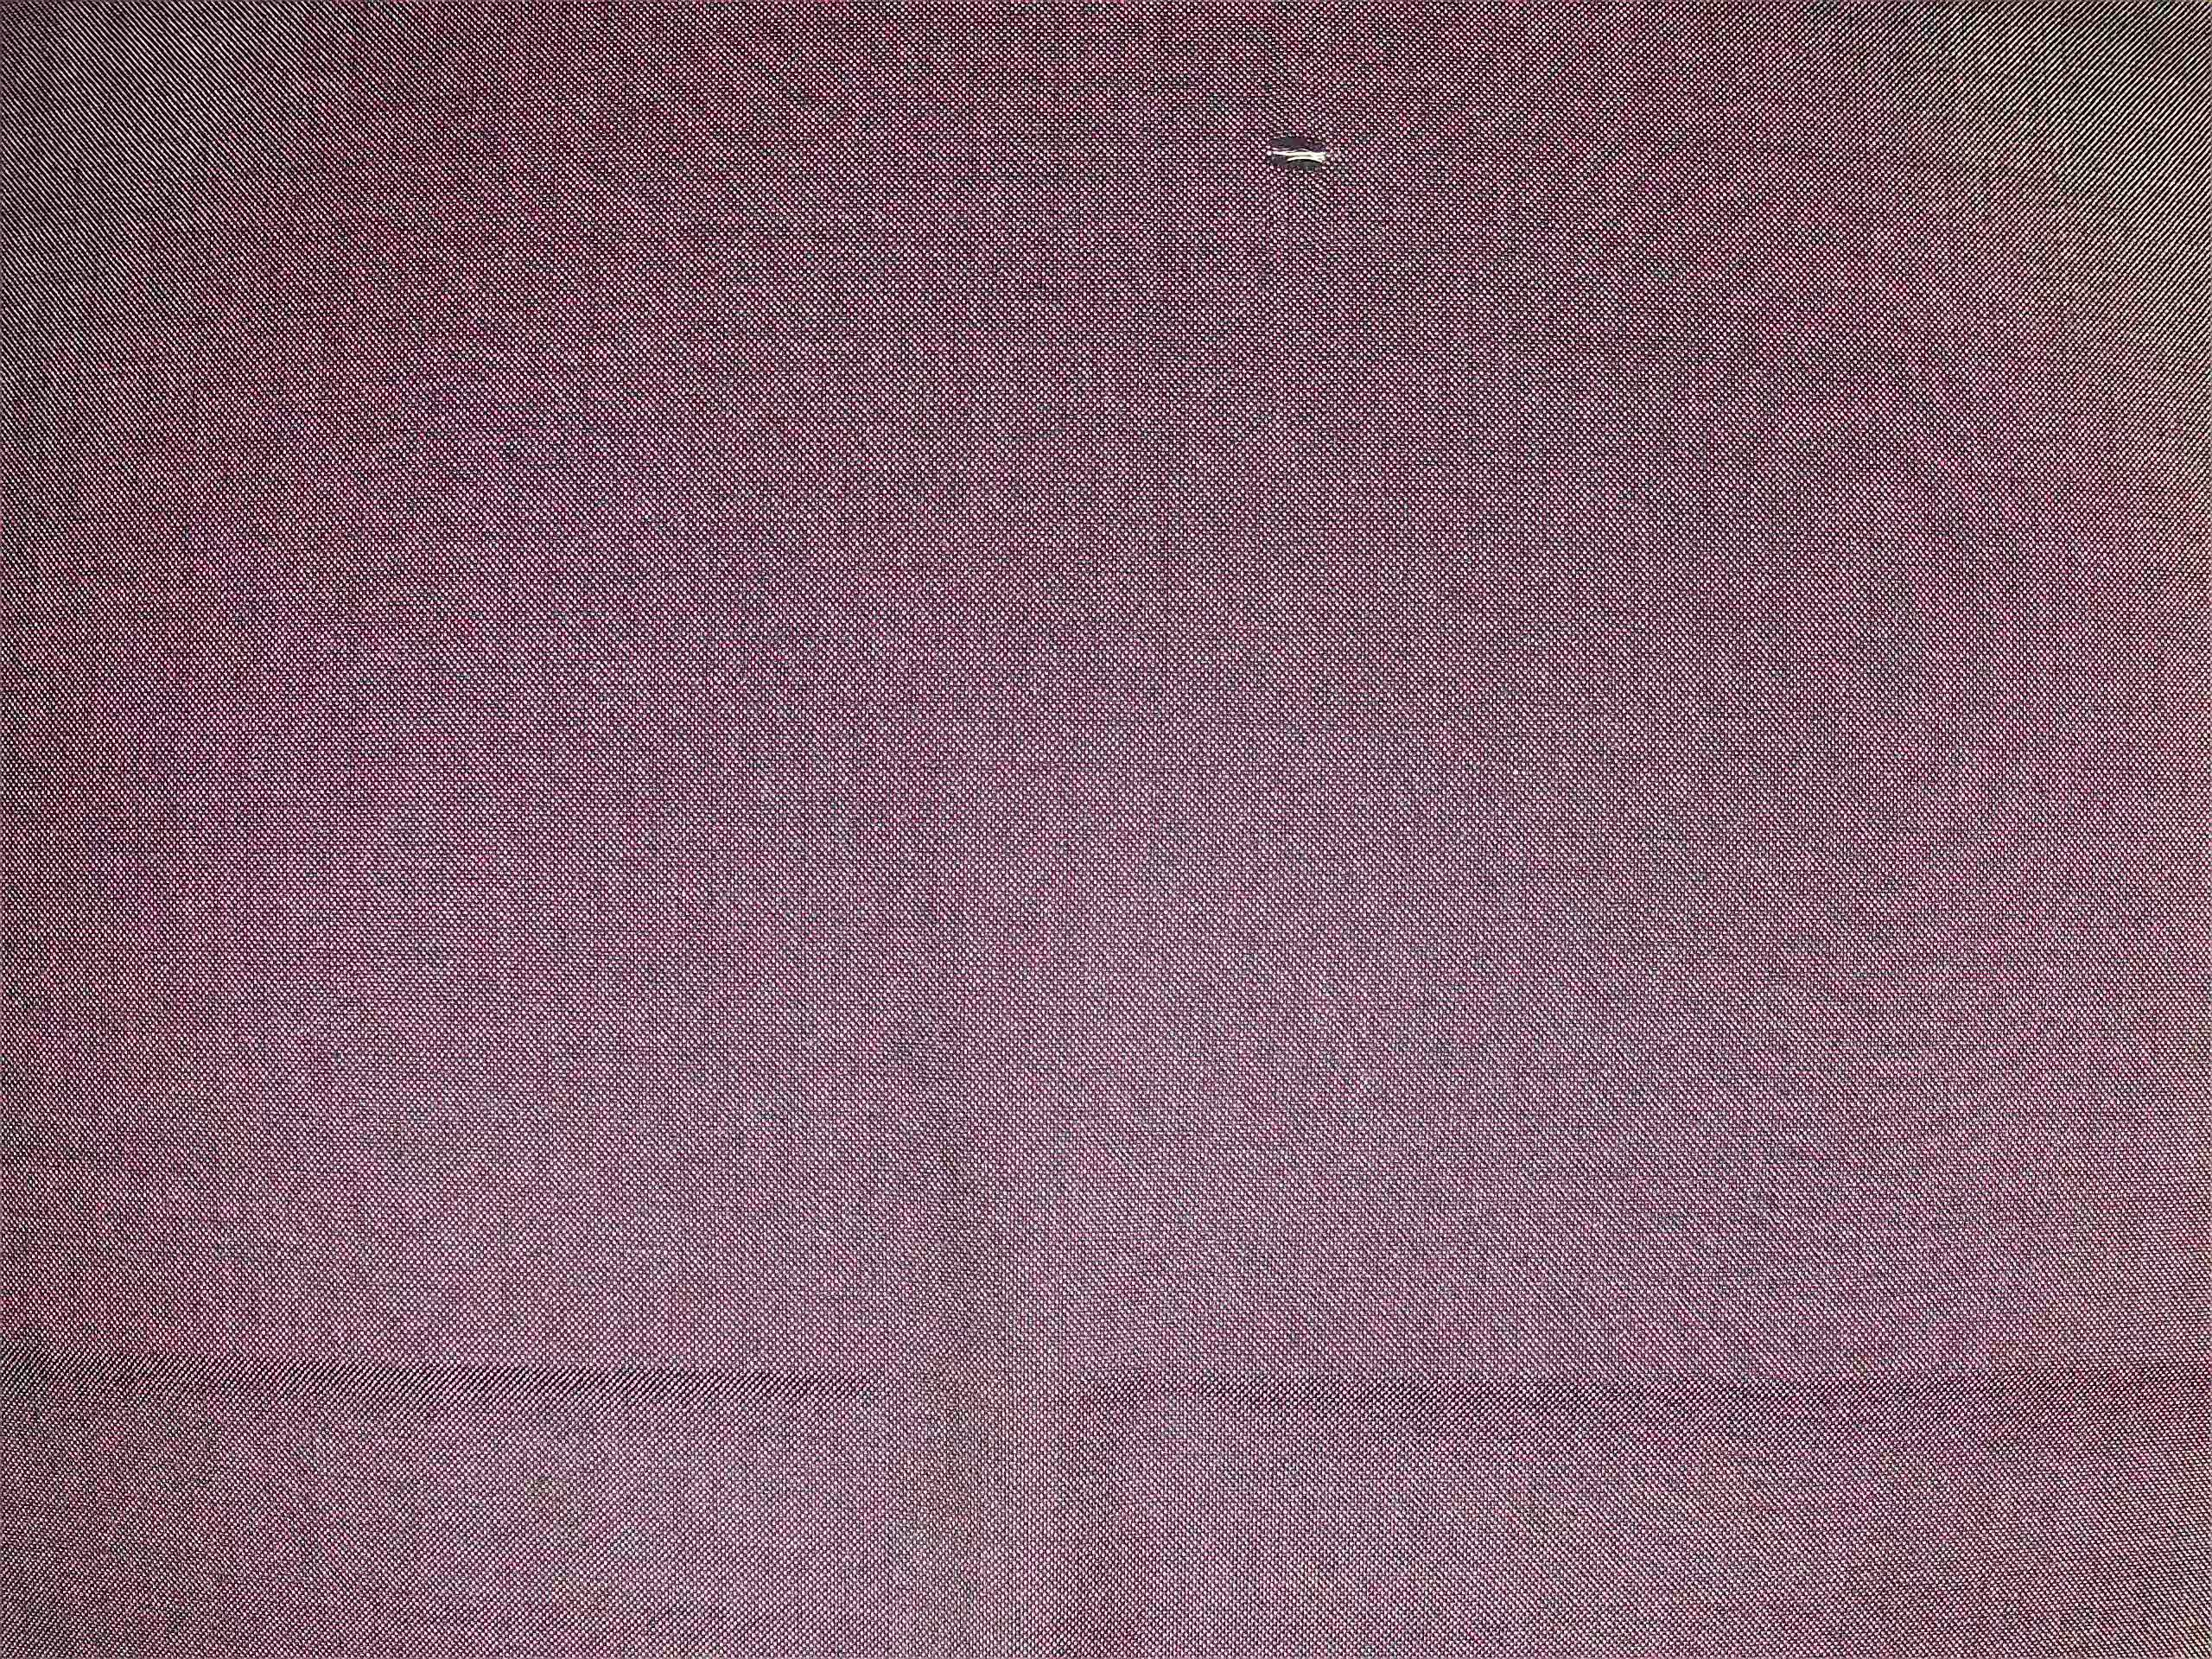rubbing-hole: (1237, 108, 1355, 190)
